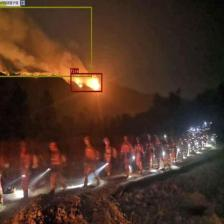fire: (70, 73, 102, 92)
smoke: (0, 6, 92, 77)
